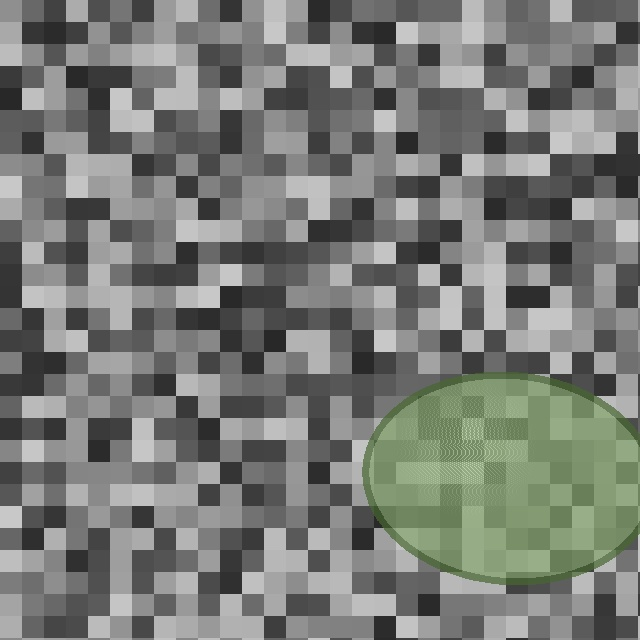lens: (366, 375, 640, 581)
